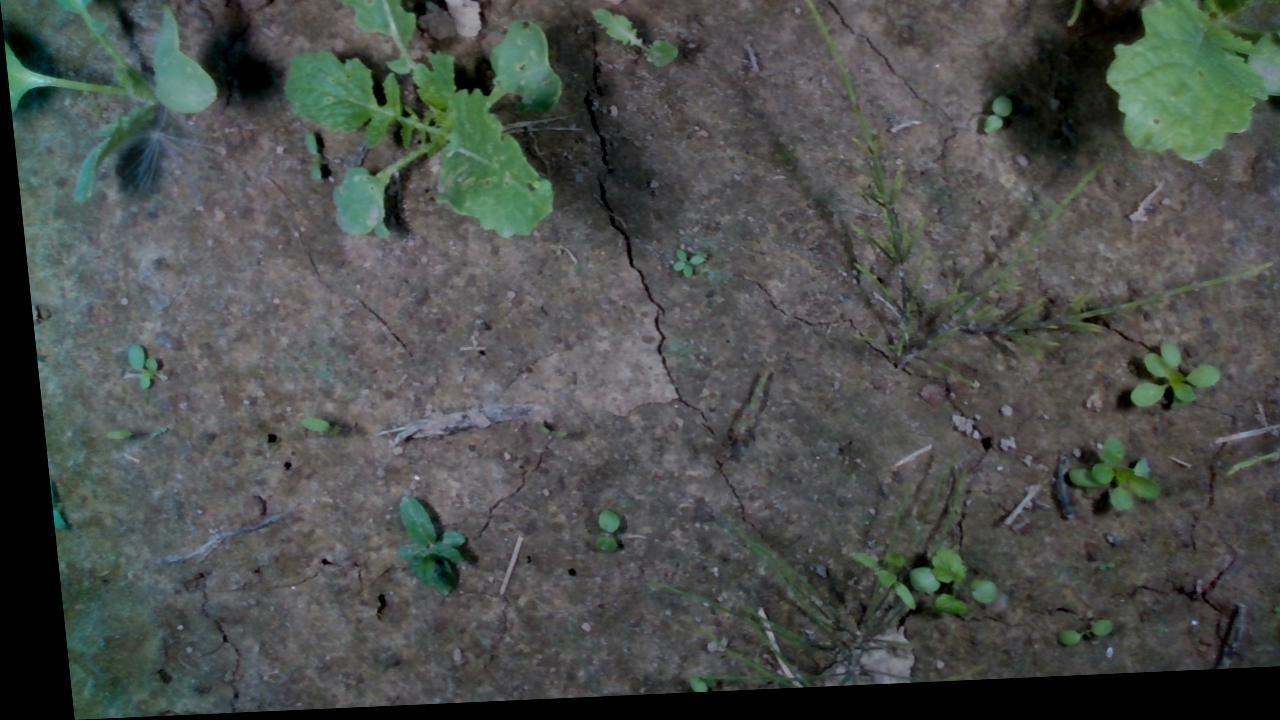weed: (114, 341, 153, 390), (1038, 627, 1100, 655), (974, 102, 1014, 145), (575, 511, 610, 559), (663, 253, 703, 285)
